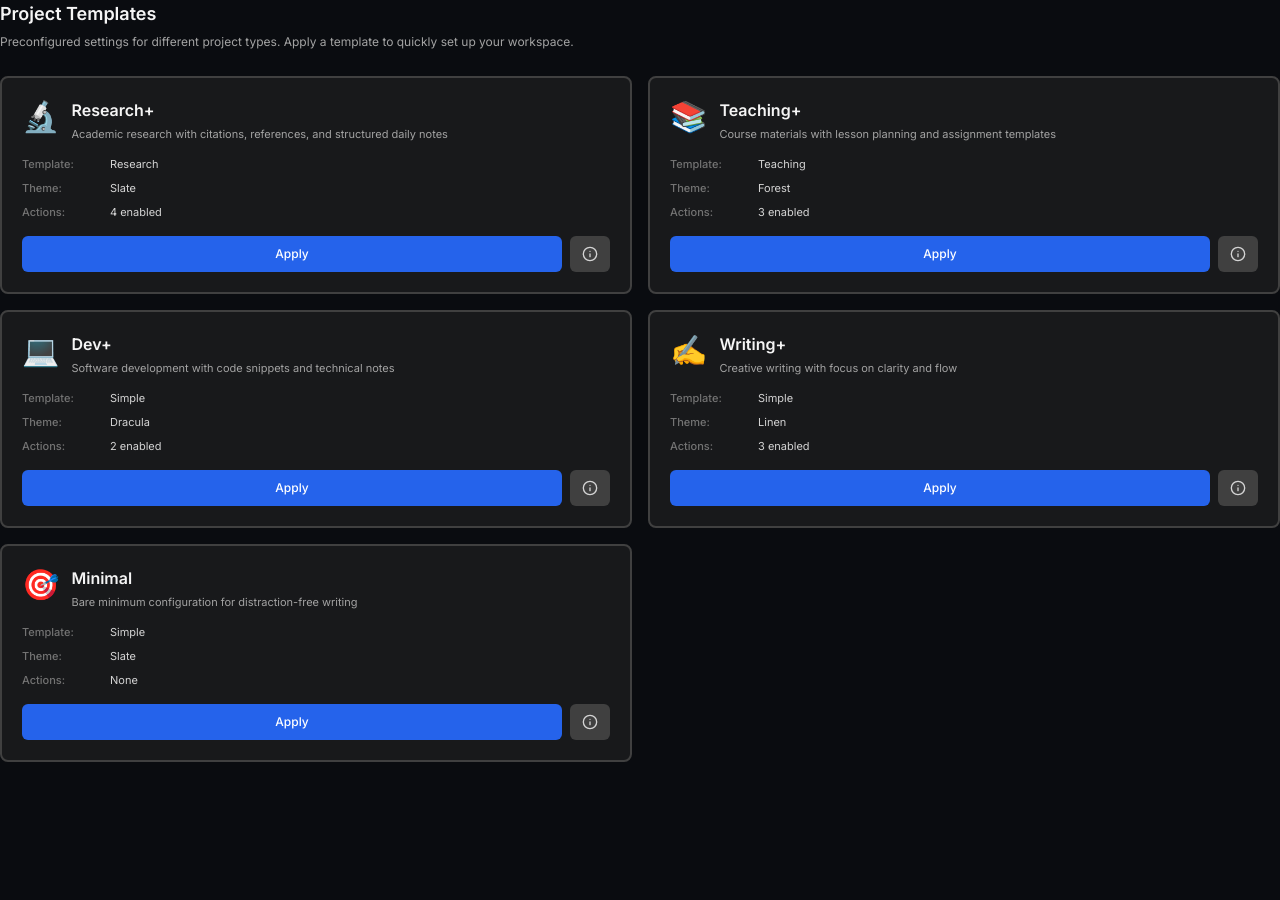
ProjectTemplates › Show Details › should collapse details when info button clicked again
Click the 1st button titled "Show details". click: (590, 254)
box: [570,236,610,272]
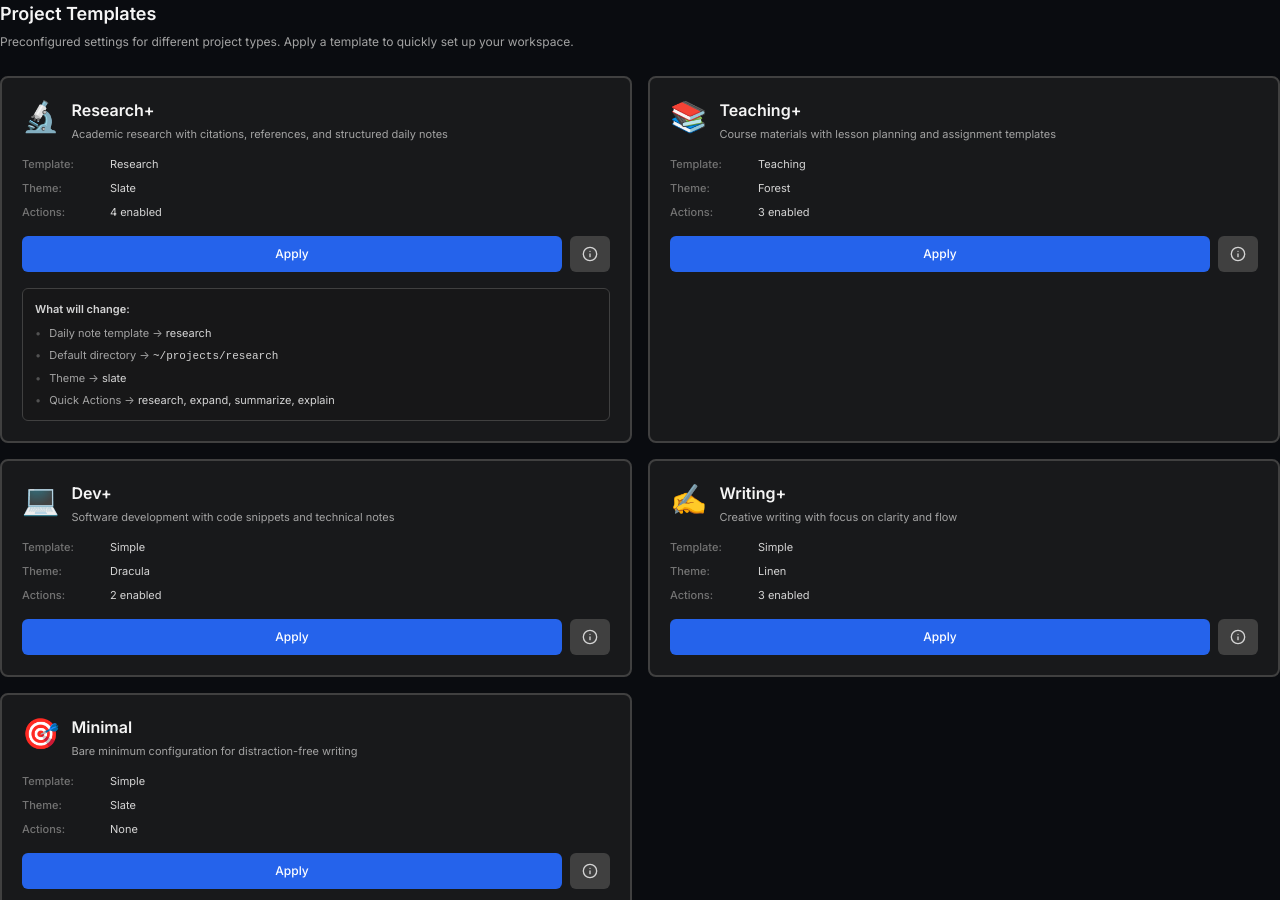
Expected: the heading "What will change:" is shown, [35,302,130,316]
Click the 1st button titled "Show details". click: (590, 254)
box: [570,236,610,272]
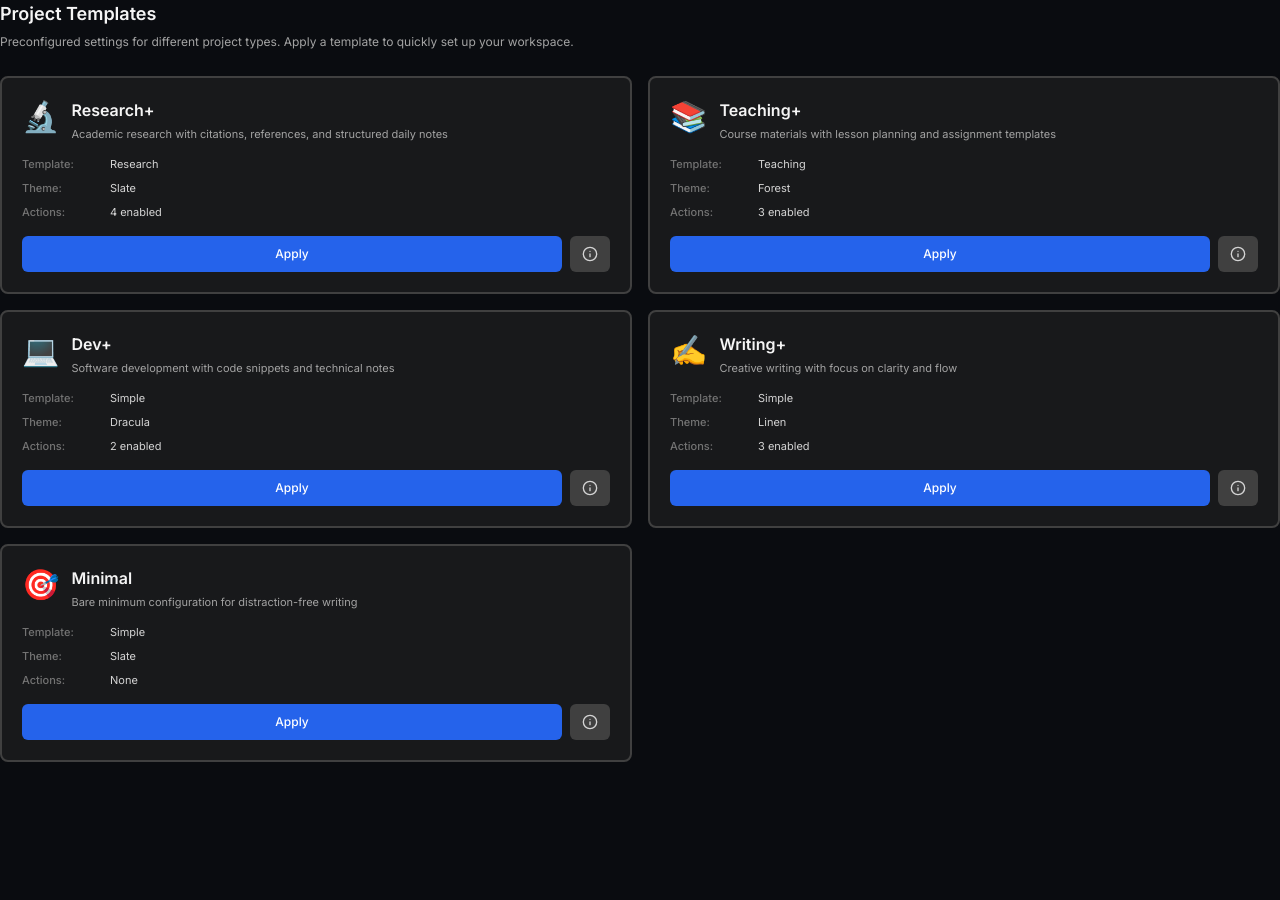
Expected: the heading "What will change:" is gone
